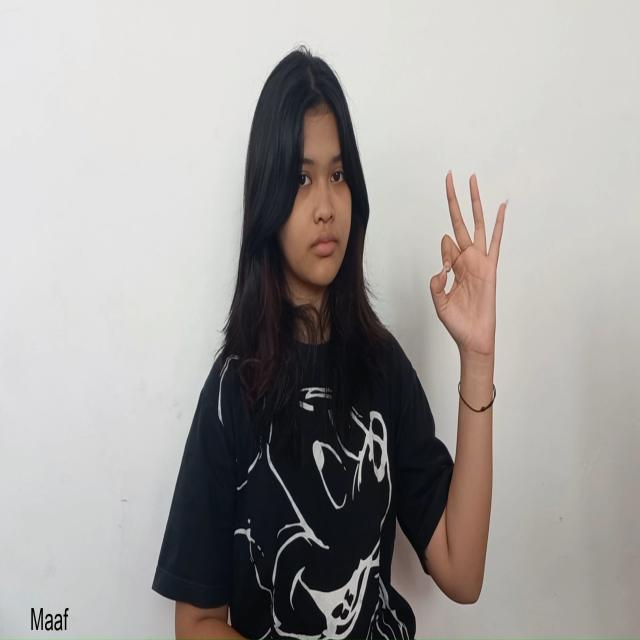Maaf -BISINDO-: (428, 166, 508, 375)
